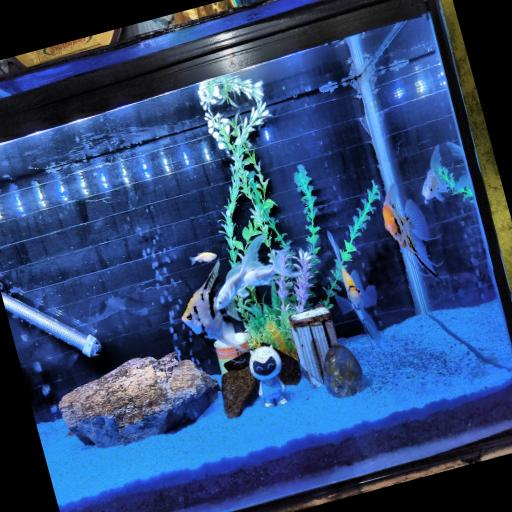Fish: (327, 232, 387, 350), (181, 262, 241, 350), (382, 185, 438, 278), (214, 236, 263, 310), (327, 232, 375, 307), (242, 248, 298, 287), (421, 145, 447, 204), (446, 142, 463, 162), (446, 142, 463, 161), (190, 252, 216, 264)
